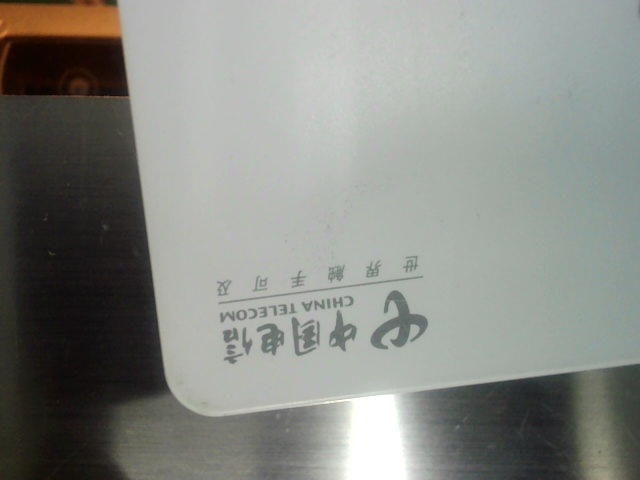AB_ChinaTelecom: (204, 248, 446, 366)
